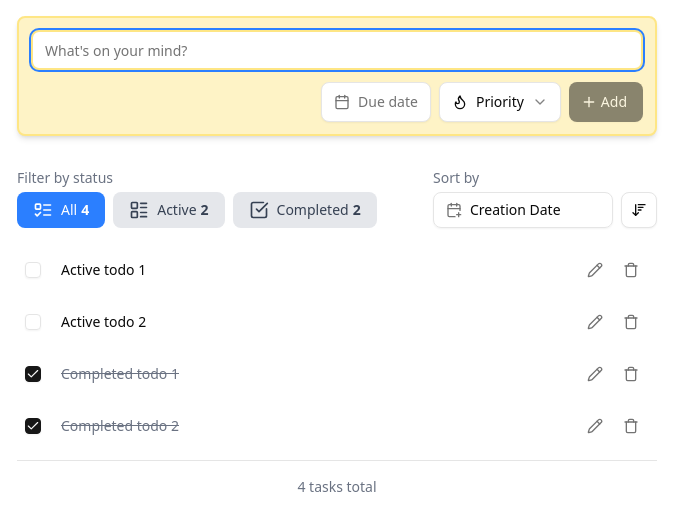
Test: TodoContainer - Filtering › should only display completed todos when Completed filter is applied
This screenshot has width=675, height=509.
# Clicking on the Completed filter button
Click the button with aria-label "show completed todos" at (305, 210), box [232,192,377,228]
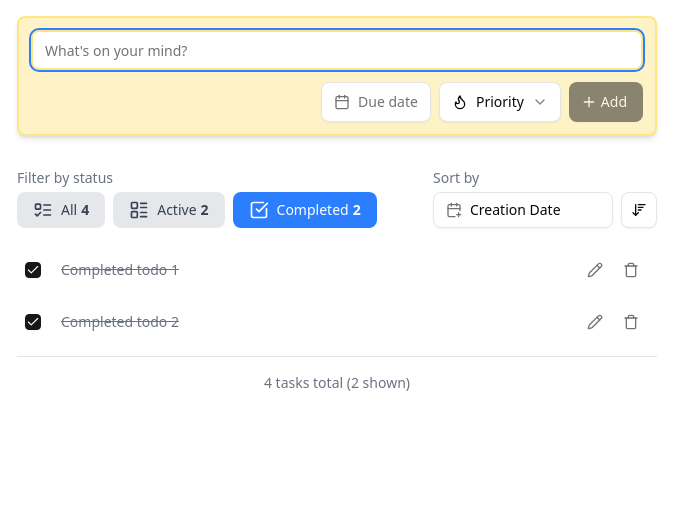
Check: the button "Active todo 1" is gone
Check: the button "Active todo 2" is gone
Check: the text "4 tasks total (2 shown)" is shown, box [264,373,410,392]
